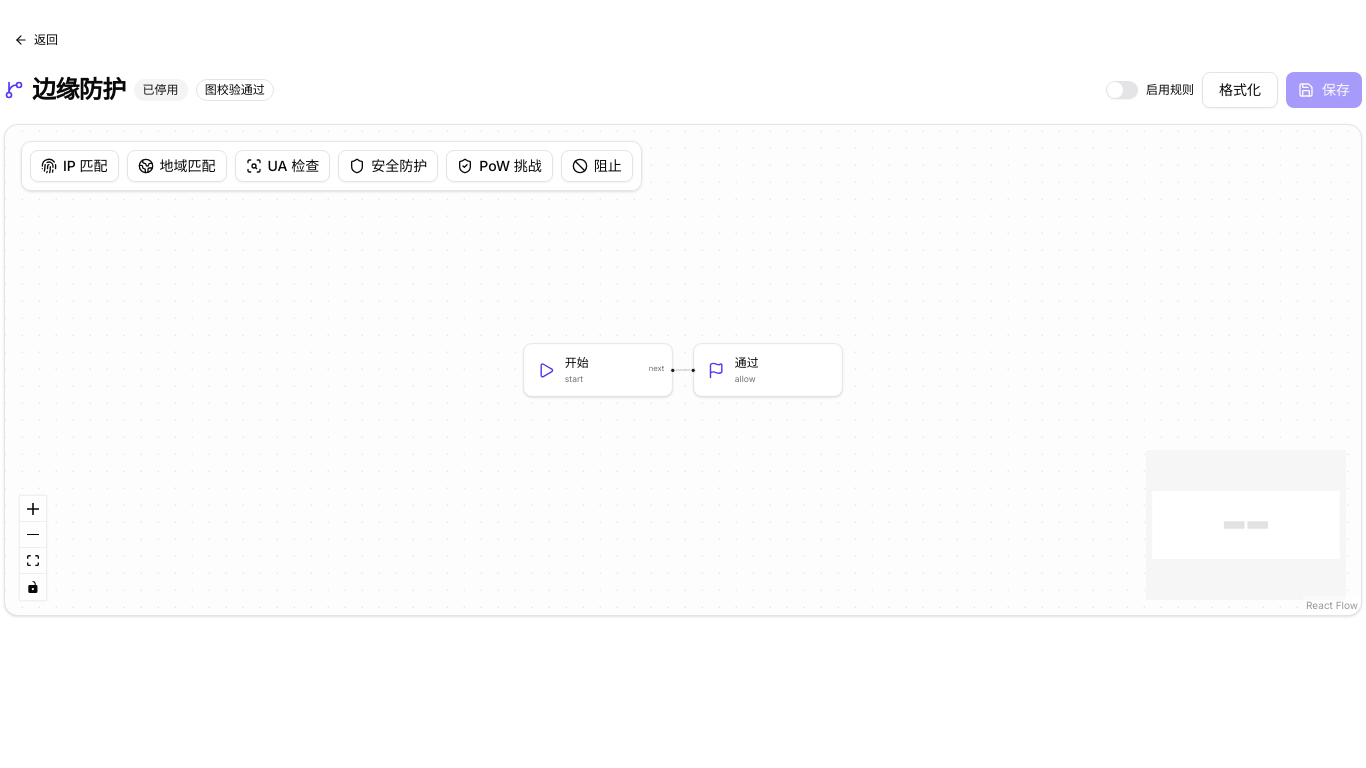
Test case: optimistically enables a saved valid rule with its current name
The width and height of the screenshot is (1366, 768).
Expected: the text "已停用" is shown, [134,79,188,101]
Click the switch named "启用规则" at x=1122, y=90, box [1106,81,1138,99]
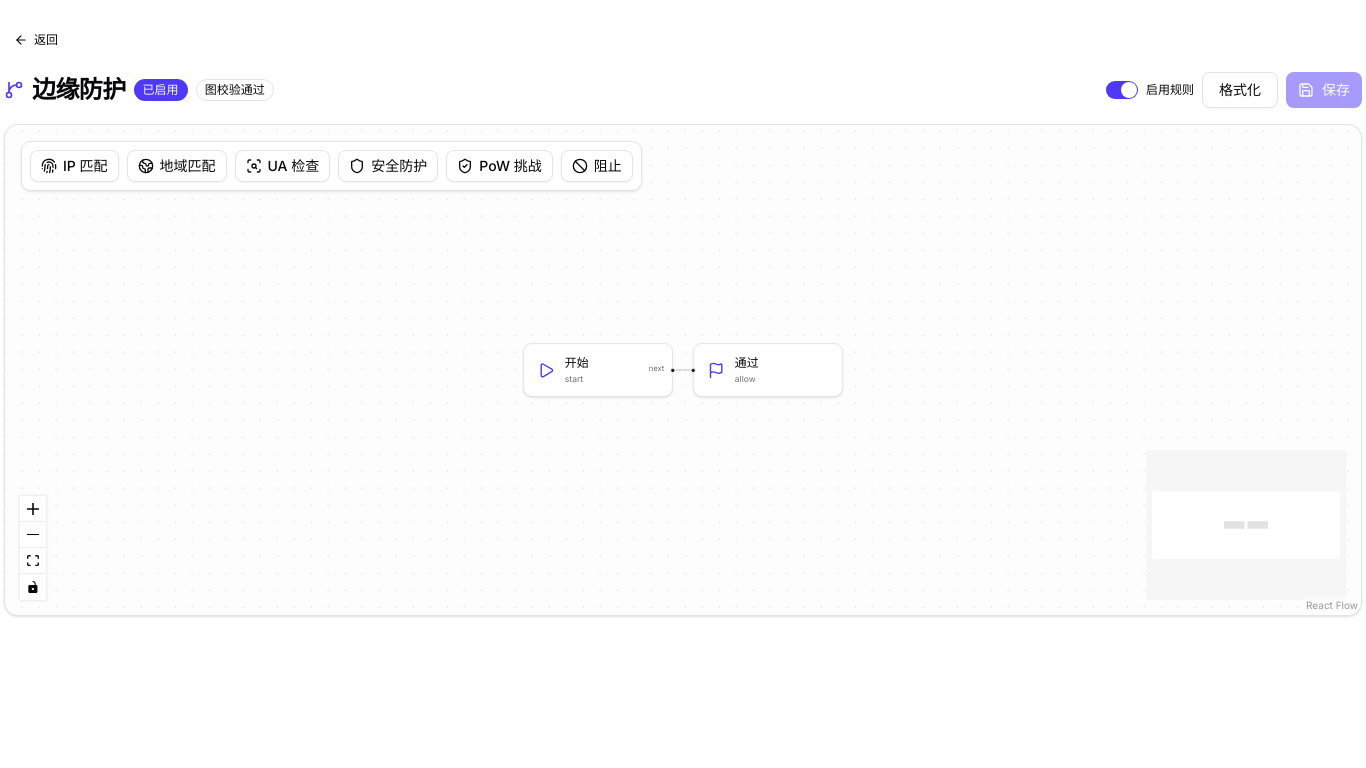
Now the text "已启用" is shown, box [134,79,188,101]
